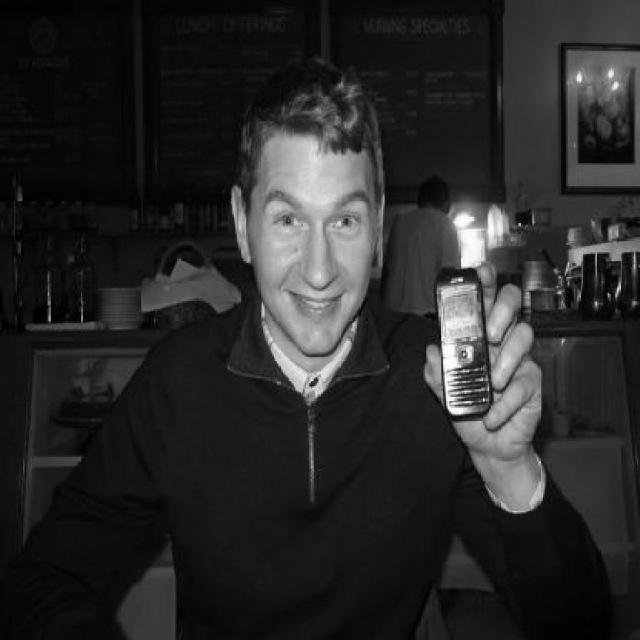fake: (428, 270, 500, 426)
